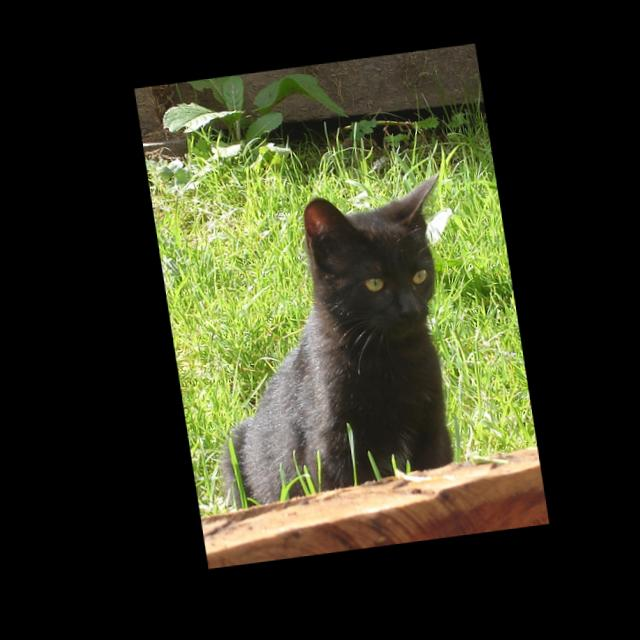animals: (301, 176, 456, 335)
